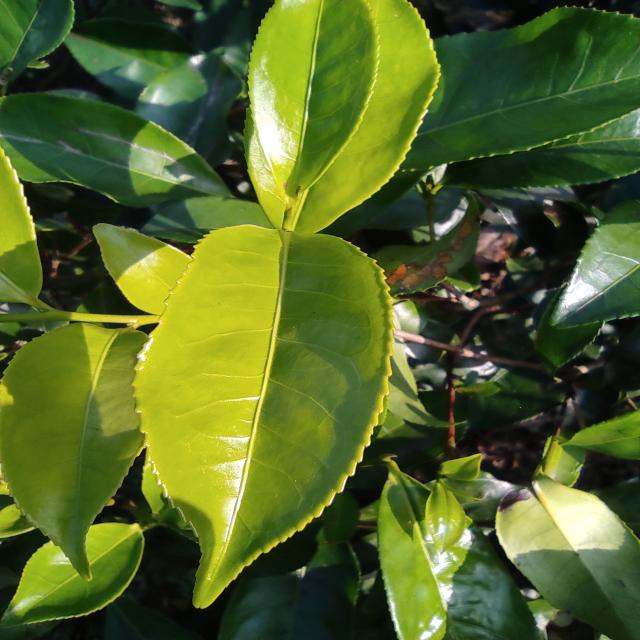Category B(2-4 days): (126, 200, 420, 620)
